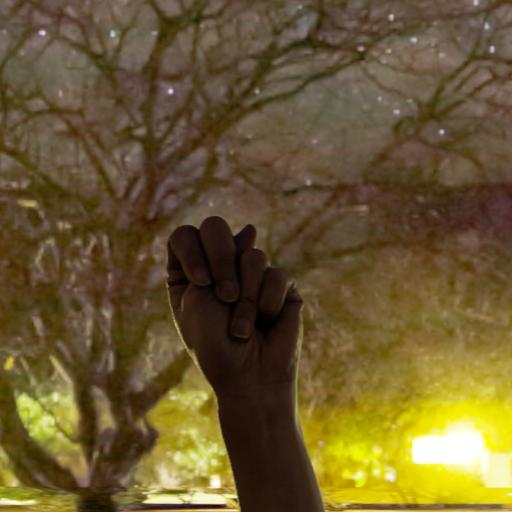N: (146, 207, 322, 379)
